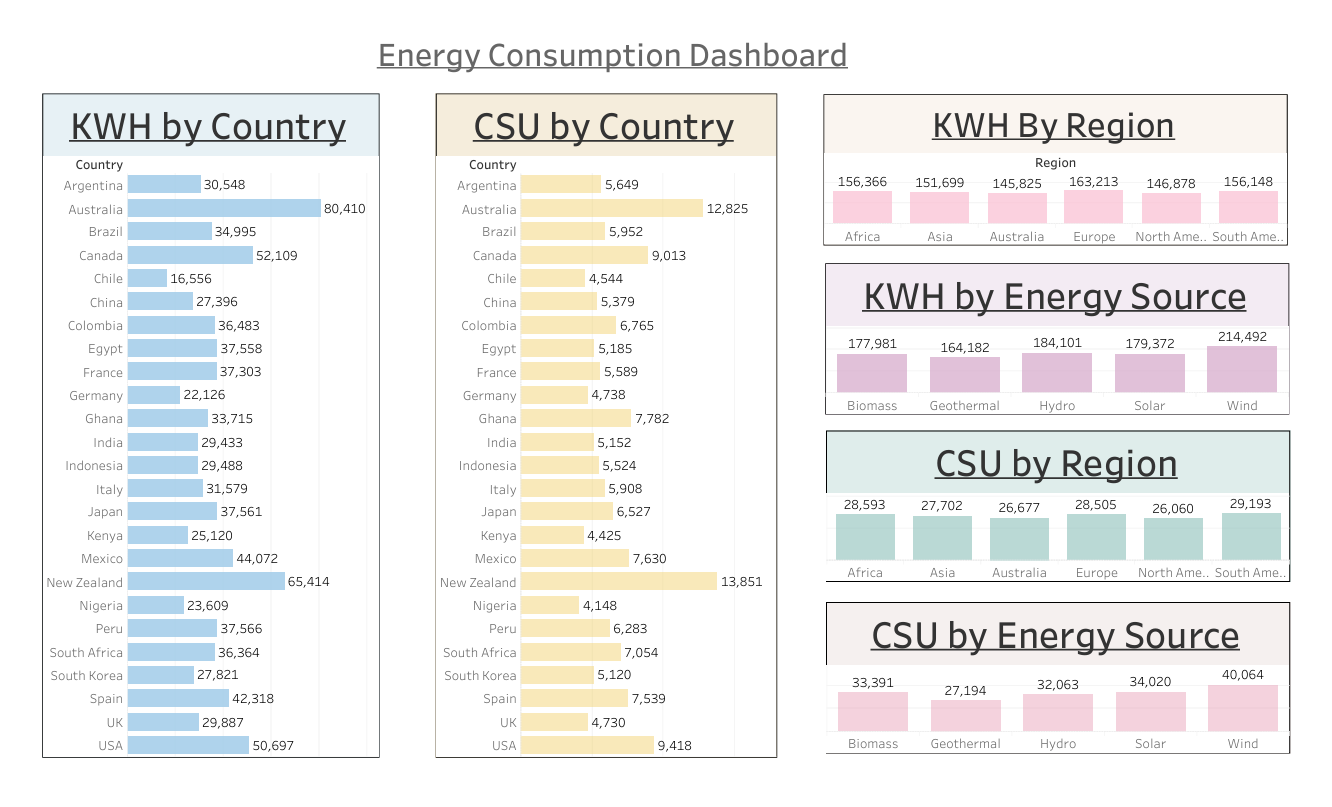

The dashboard page shown, as its layout file describes it:
{"tool":"tableau","page":{"name":"Tableau Dashboard","canvas":[1000,1000],"units":"permille","ordinal":0},"visuals":[{"type":"text","box":[196.7,2.2,513.6,84.5]},{"type":"worksheet","title":"KWH by Country","mark":"Automatic","rows":["COUNTRY"],"cols":["MONTHLY_USAGE_KWH"],"box":[42.2,96.6,242,867.2]},{"type":"worksheet","title":"CSU by Country","mark":"Automatic","rows":["COUNTRY"],"cols":["COST_SAVINGS_USD"],"box":[324.7,96.6,245,867.2]},{"type":"worksheet","title":"KWH By Region","mark":"Automatic","rows":["MONTHLY_USAGE_KWH"],"cols":["REGION"],"box":[602.9,97.7,333.1,197.6]},{"type":"worksheet","title":"KWH by Energy Source","mark":"Automatic","rows":["MONTHLY_USAGE_KWH"],"cols":["ENERGY_SOURCE"],"box":[604.1,318.3,333.1,197.6]},{"type":"worksheet","title":"CSU by Region","mark":"Automatic","rows":["COST_SAVINGS_USD"],"cols":["REGION"],"box":[604.7,536.8,333.1,197.6]},{"type":"worksheet","title":"CSU by Energy Source","mark":"Automatic","rows":["COST_SAVINGS_USD"],"cols":["ENERGY_SOURCE"],"box":[604.7,760.7,333.1,197.6]}]}

Visuals, with their boxes on the dashboard's canvas, which has no fixed pixel size, in thousandths of its width and height (x1, y1, x2, y2). These are canvas units, not pixel positions in the 1332x807 screenshot, which may show the page scaled, cropped or inside an application window:
text: Rect(197, 2, 710, 87)
"KWH by Country" worksheet: Rect(42, 97, 284, 964)
"CSU by Country" worksheet: Rect(325, 97, 570, 964)
"KWH By Region" worksheet: Rect(603, 98, 936, 295)
"KWH by Energy Source" worksheet: Rect(604, 318, 937, 516)
"CSU by Region" worksheet: Rect(605, 537, 938, 734)
"CSU by Energy Source" worksheet: Rect(605, 761, 938, 958)
